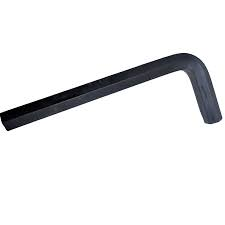chave_de_fenda: (0, 50, 222, 136)
